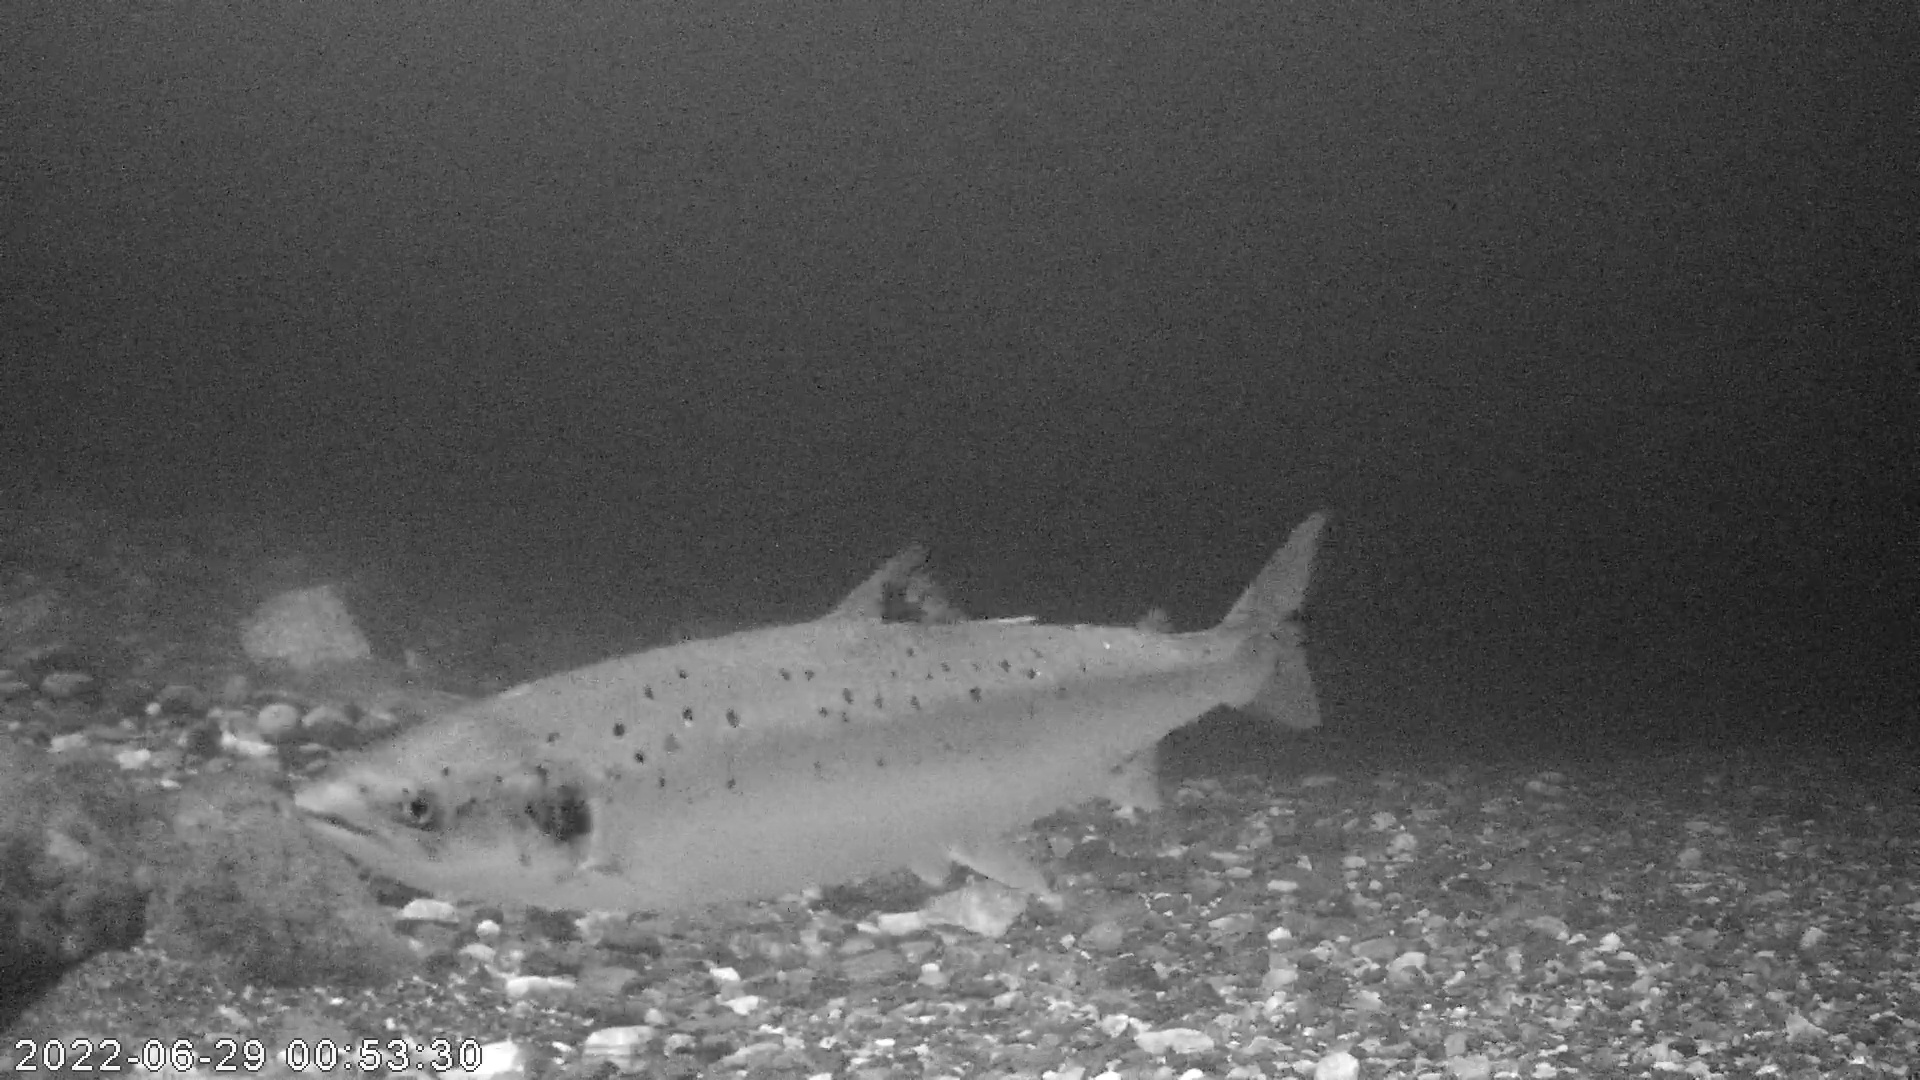salmon: (326, 488, 1296, 926)
